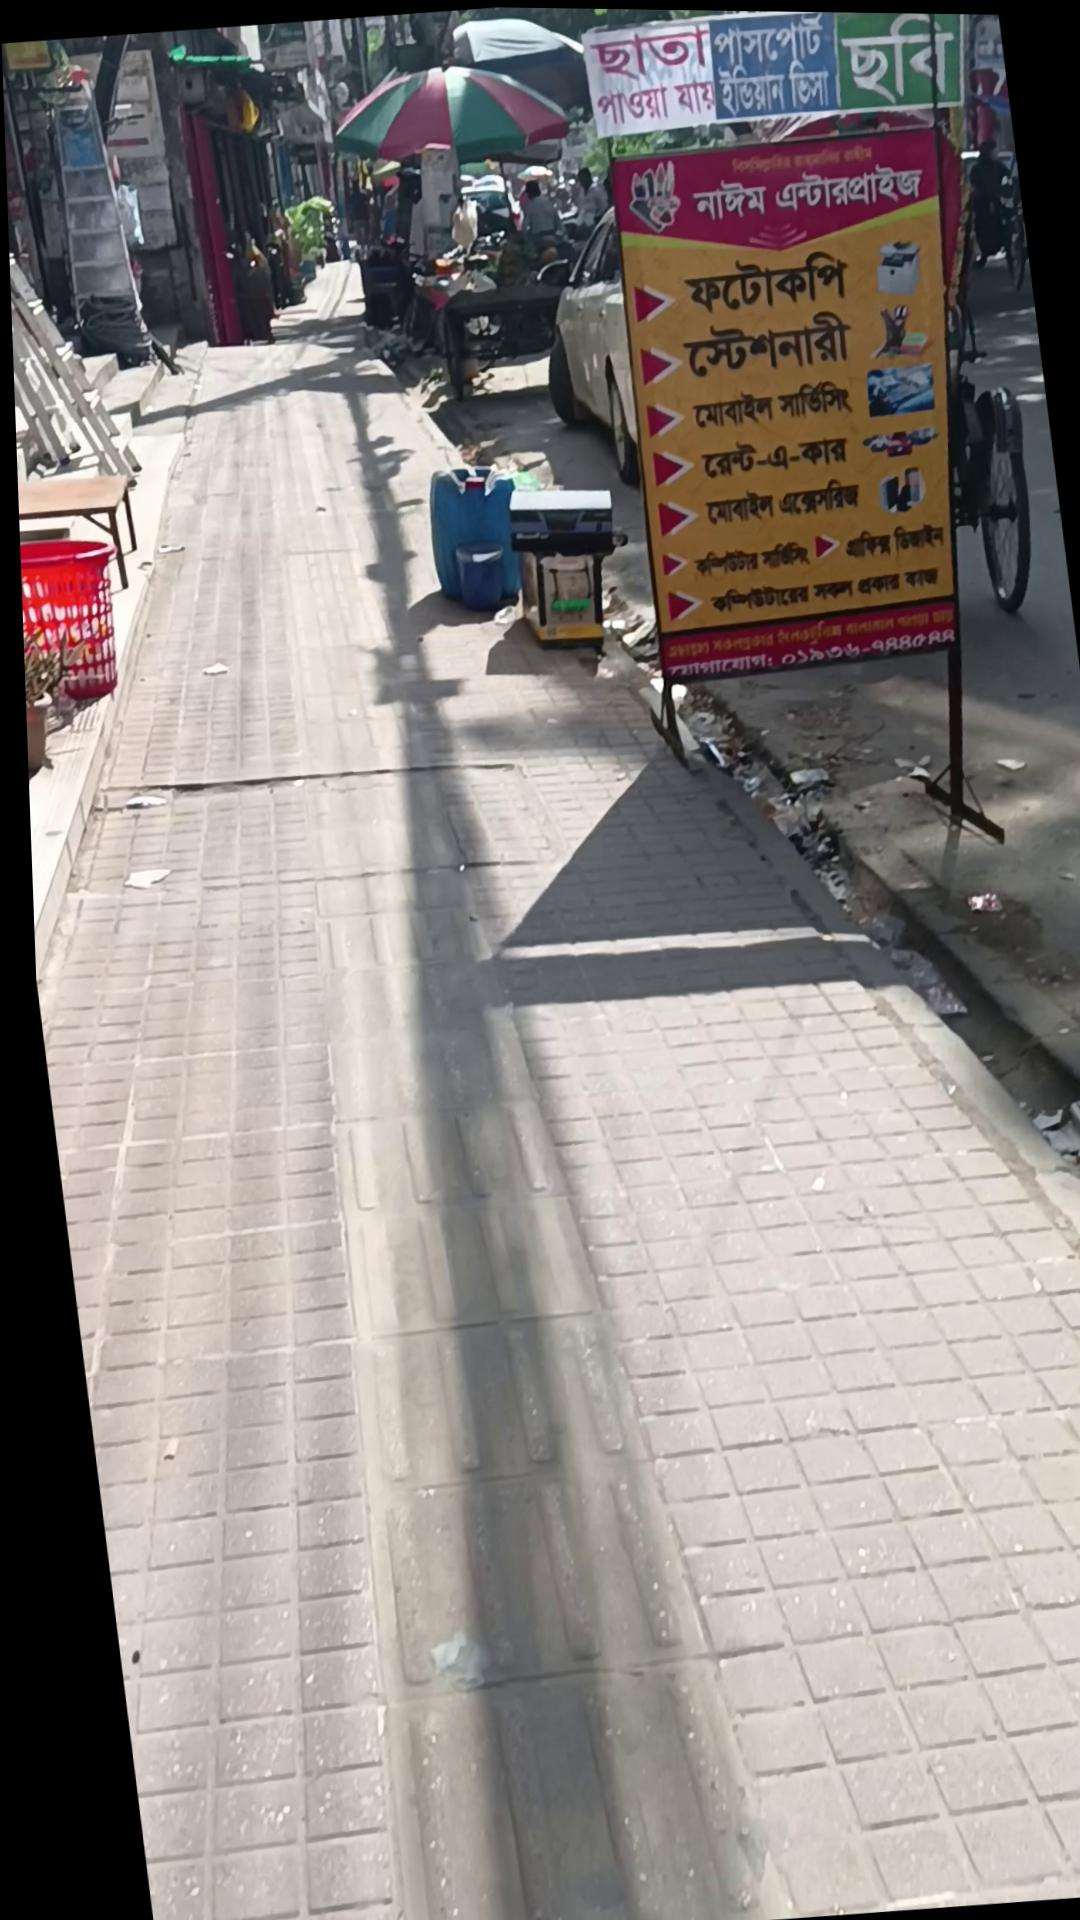Broken-road: (9, 328, 278, 985)
Cat: (16, 531, 128, 709), (353, 243, 413, 330)
Crosswalk: (496, 479, 630, 658), (505, 538, 608, 651)
Fallen-tree: (17, 603, 98, 775)
Garbage: (5, 190, 1080, 1920)
